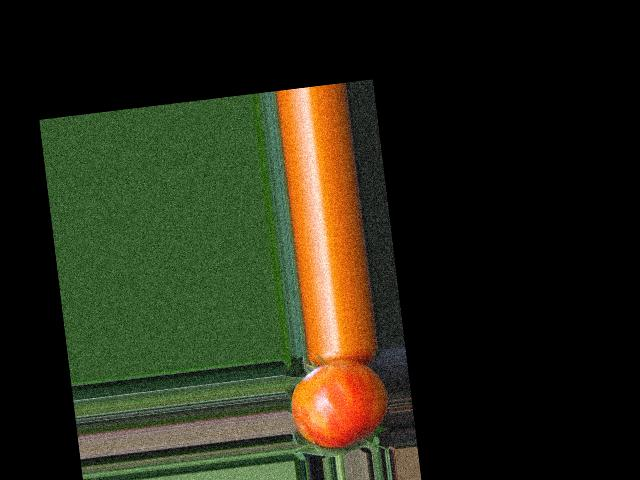tomato: (286, 355, 393, 452)
